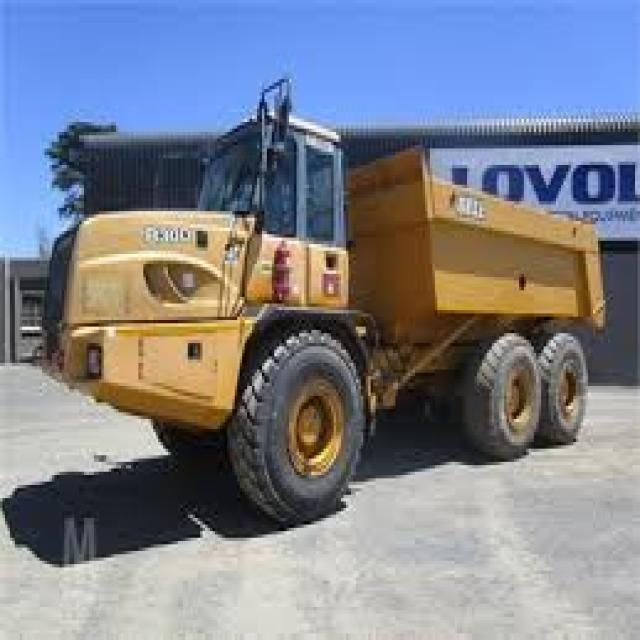dump_truck: (37, 83, 610, 531)
